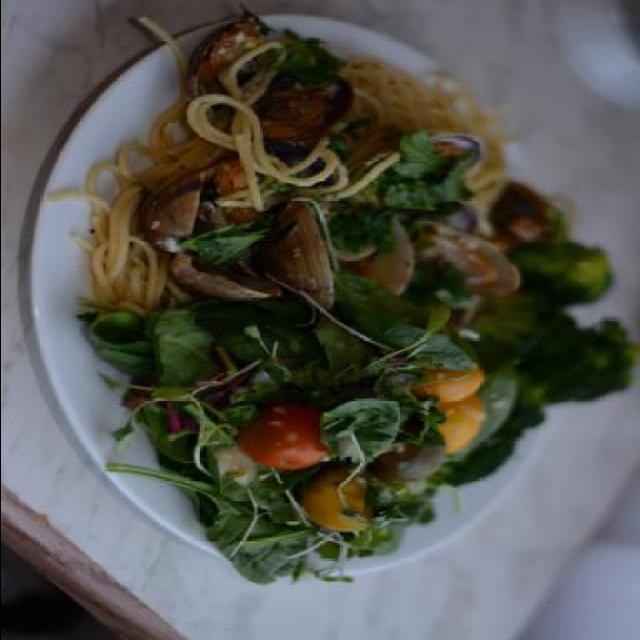Tomato: (246, 407, 330, 473)
